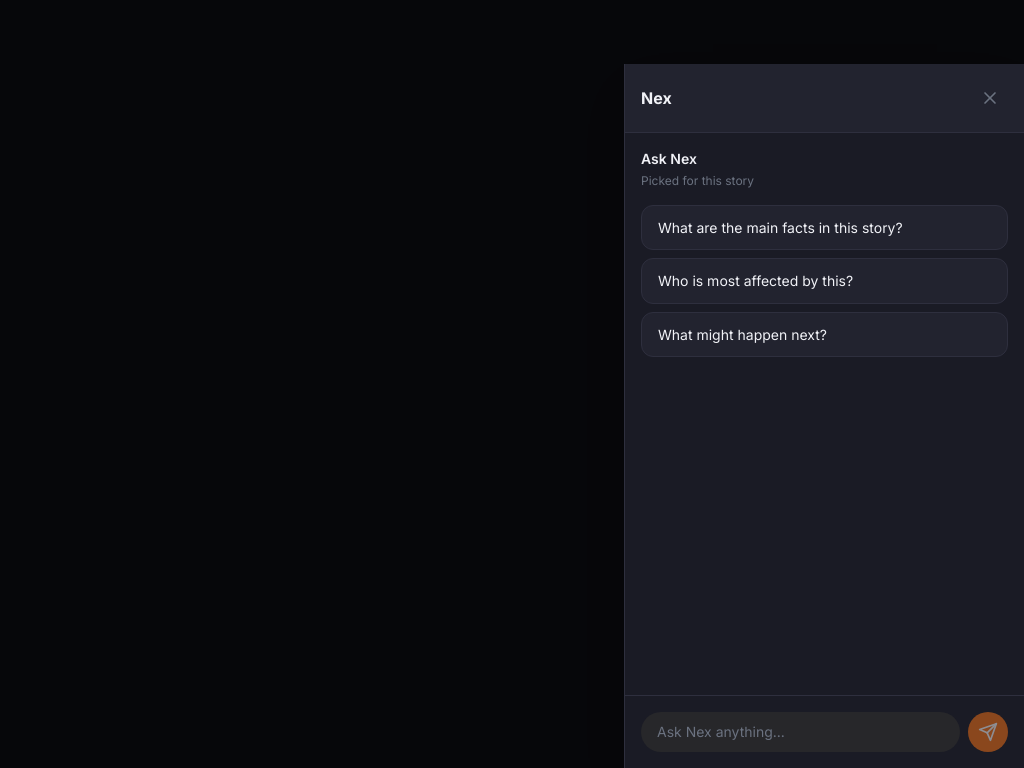
Test case: SlideOutChatPanel › response handling › replaces optimistic message and appends assistant message on success
Type "Tell me more" into the field with placeholder "Ask Nex anything..." at (800, 732), box [641,712,960,752]
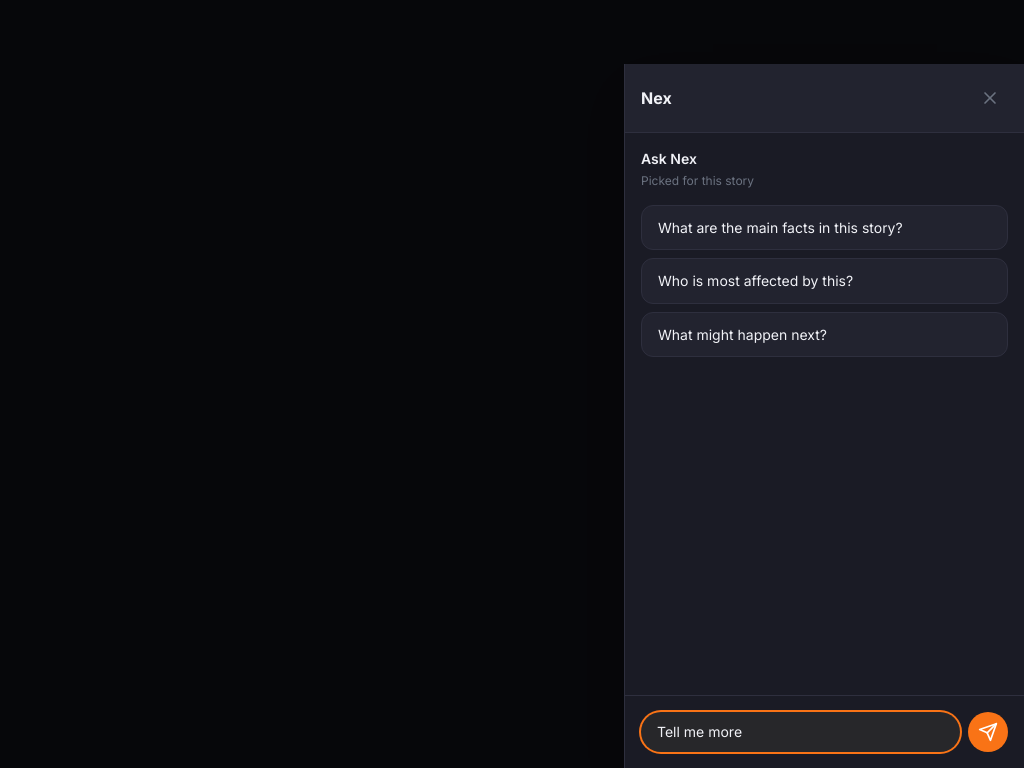
Click the button named "Send message" at (988, 732), box [968,712,1008,752]
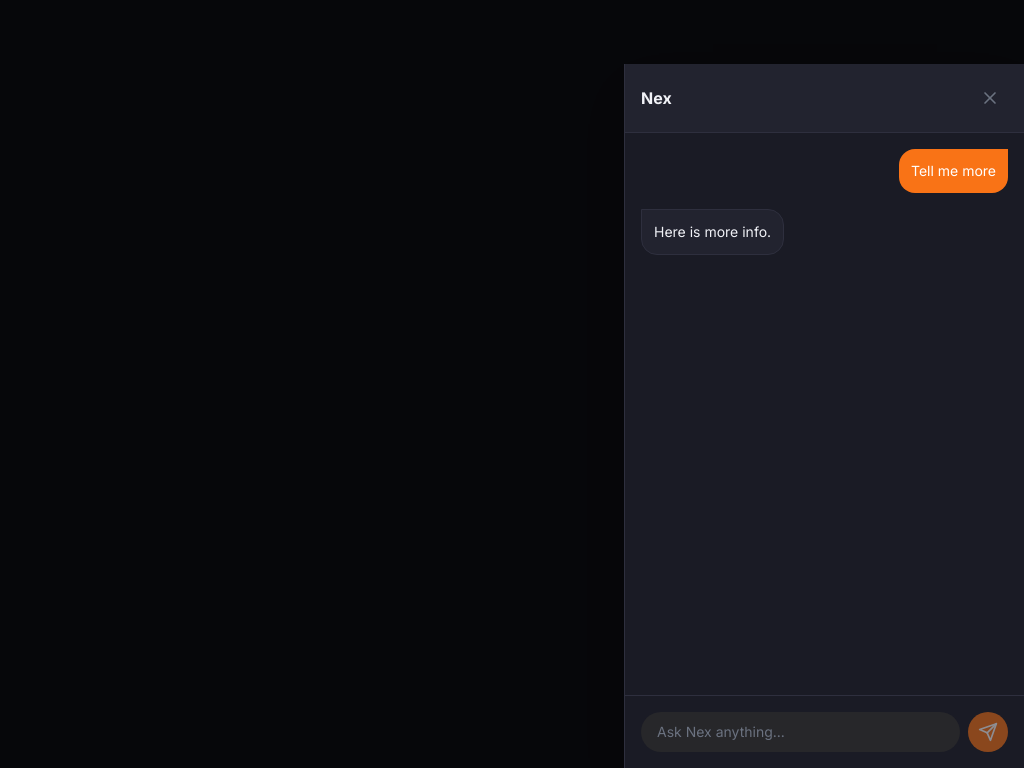
Now the text "Tell me more" is shown, box [899,149,1008,193]
Now the text "Here is more info." is shown, box [641,209,784,255]
